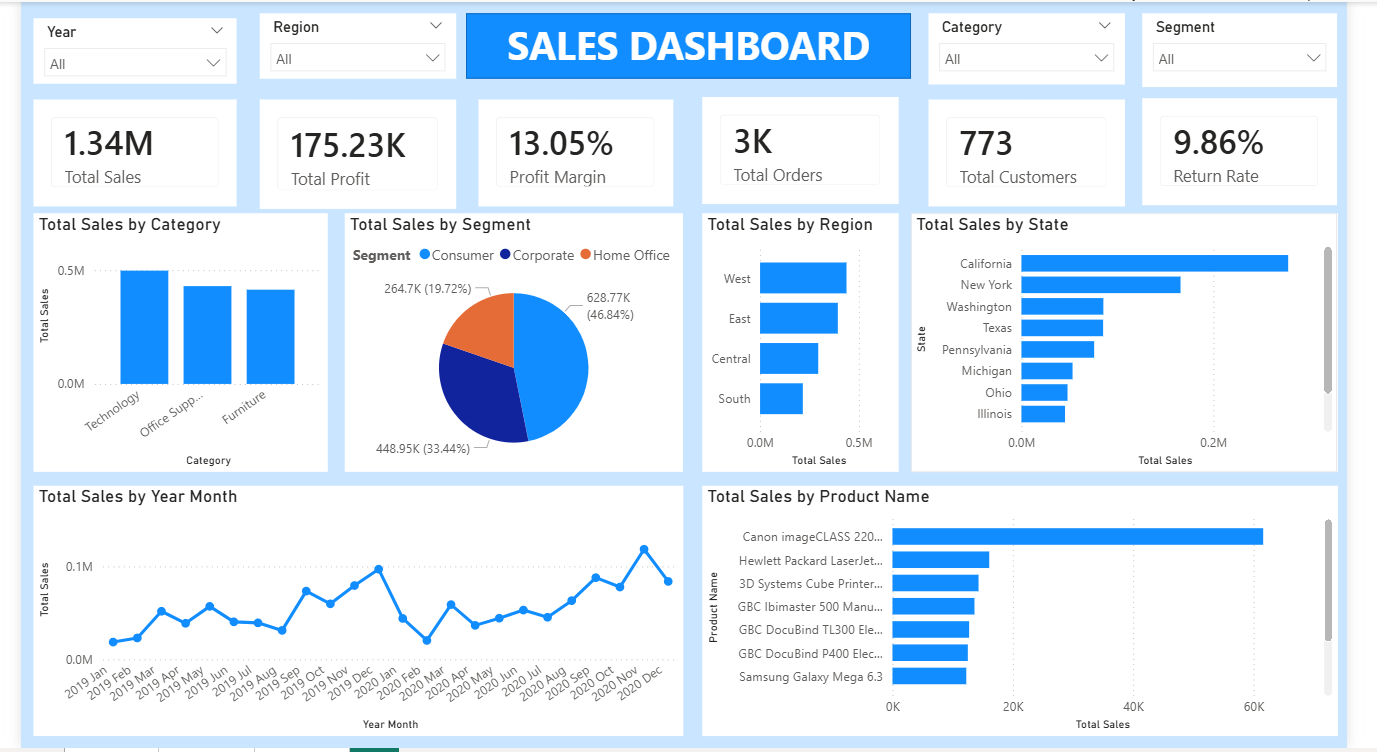

What the dashboard file says about the page in this screenshot:
{"tool":"powerbi","page":{"name":"Page 1","canvas":[1280,720],"ordinal":0},"visuals":[{"type":"cardVisual","fields":{"Data":["Orders.Total Sales"]},"box":[12.3,94.7,196.2,102.9],"z":0},{"type":"cardVisual","fields":{"Data":["Orders.Total Profit"]},"box":[230.5,94.7,189.4,105.7],"z":1000},{"type":"cardVisual","fields":{"Data":["Orders.Total Orders"]},"box":[657.3,91.9,189.4,102.9],"z":2000},{"type":"cardVisual","fields":{"Data":["Orders.Total Customers"]},"box":[875.5,94.7,189.4,102.9],"z":3000},{"type":"cardVisual","fields":{"Data":["Orders.Profit Margin"]},"box":[441.9,94.7,188,102.9],"z":4000},{"type":"cardVisual","fields":{"Data":["Orders.Return Rate"]},"box":[1082.7,93.3,188,102.9],"z":5000},{"type":"lineChart","fields":{"Y":["Orders.Total Sales"],"Category":["DateTable.Year Month"]},"box":[12.3,466.6,627.1,241.5],"z":6000},{"type":"clusteredColumnChart","fields":{"Category":["Orders.Category"],"Y":["Orders.Total Sales"]},"box":[12.3,204.5,284,249.7],"z":7000},{"type":"clusteredBarChart","fields":{"Category":["Orders.Region"],"Y":["Orders.Total Sales"]},"box":[657.3,204.5,189.4,249.7],"z":8000},{"type":"clusteredBarChart","fields":{"Category":["Orders.Product Name"],"Y":["Orders.Total Sales"]},"box":[657.3,466.6,613.4,241.5],"z":9000},{"type":"pieChart","fields":{"Y":["Orders.Total Sales"],"Category":["Orders.Segment"]},"box":[312.9,204.5,326.6,249.7],"z":10000},{"type":"clusteredBarChart","fields":{"Category":["Orders.State"],"Y":["Orders.Total Sales"]},"box":[859,204.5,411.7,249.7],"z":11000},{"type":"slicer","fields":{"Values":["DateTable.Year"]},"box":[12.3,15.1,196.2,63.1],"z":12000},{"type":"slicer","fields":{"Values":["Orders.Region"]},"box":[230.5,11,189.4,63.1],"z":13000},{"type":"slicer","fields":{"Values":["Orders.Category"]},"box":[875.5,11,189.4,68.6],"z":14000},{"type":"slicer","fields":{"Values":["Orders.Segment"]},"box":[1082.7,11,188,71.4],"z":15000},{"type":"shape","box":[429.5,11,429.5,63.1],"z":16000},{"type":"textbox","box":[429.5,11,429.5,63.1],"z":17000}]}

Visuals, with their boxes on the page's 1280x720 design canvas (x1, y1, x2, y2). These are canvas units, not pixel positions in the 1377x752 screenshot, which may show the page scaled, cropped or inside an application window:
cardVisual - Orders.Total Sales: bbox=[12, 95, 208, 198]
cardVisual - Orders.Total Profit: bbox=[230, 95, 420, 200]
cardVisual - Orders.Total Orders: bbox=[657, 92, 847, 195]
cardVisual - Orders.Total Customers: bbox=[876, 95, 1065, 198]
cardVisual - Orders.Profit Margin: bbox=[442, 95, 630, 198]
cardVisual - Orders.Return Rate: bbox=[1083, 93, 1271, 196]
lineChart - Orders.Total Sales x DateTable.Year Month: bbox=[12, 467, 639, 708]
clusteredColumnChart - Orders.Category x Orders.Total Sales: bbox=[12, 204, 296, 454]
clusteredBarChart - Orders.Region x Orders.Total Sales: bbox=[657, 204, 847, 454]
clusteredBarChart - Orders.Product Name x Orders.Total Sales: bbox=[657, 467, 1271, 708]
pieChart - Orders.Total Sales x Orders.Segment: bbox=[313, 204, 640, 454]
clusteredBarChart - Orders.State x Orders.Total Sales: bbox=[859, 204, 1271, 454]
slicer - DateTable.Year: bbox=[12, 15, 208, 78]
slicer - Orders.Region: bbox=[230, 11, 420, 74]
slicer - Orders.Category: bbox=[876, 11, 1065, 80]
slicer - Orders.Segment: bbox=[1083, 11, 1271, 82]
shape: bbox=[430, 11, 859, 74]
textbox: bbox=[430, 11, 859, 74]
